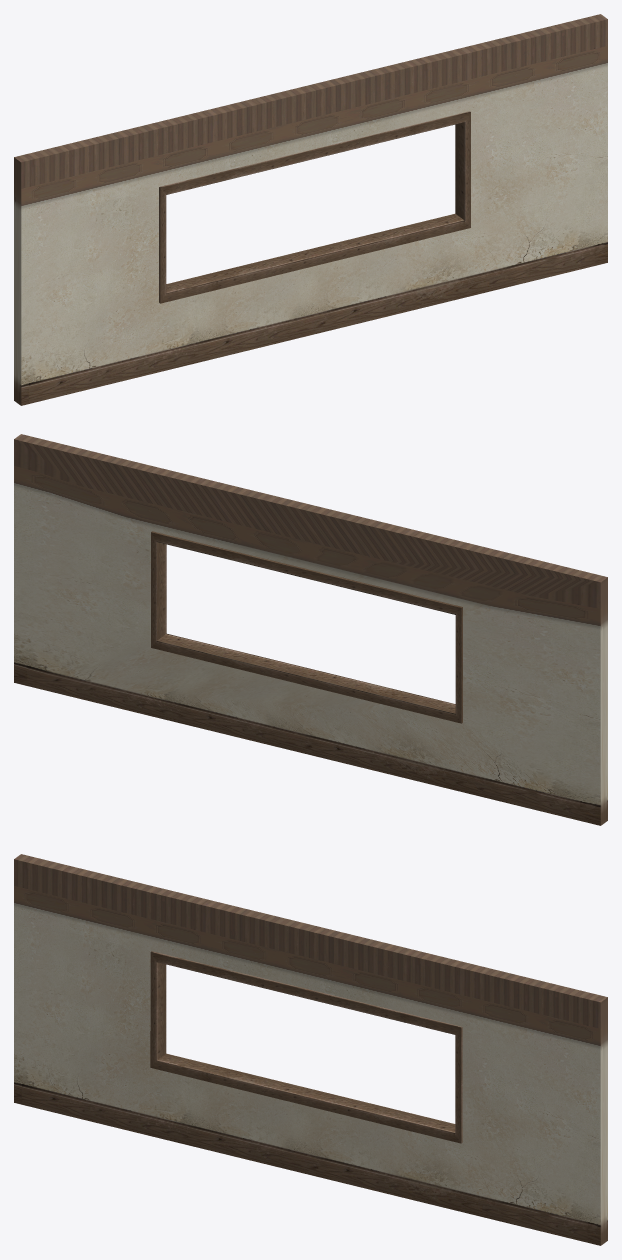
Rendered from erlou_wall.fbx.
3 views of the same model, one above another, from view 1: azimuth 30°, elevation 25°; view 2: azimuth 150°, elevation 25°; view 3: azimuth 330°, elevation 25° (orthographic).
Parts seen in each view (by area): view 1: Box001, Line001; view 2: Box001, Line001; view 3: Box001, Line001.
Boxes of the visible parts, box(x1,y1,x2,y2) form: Box001: box(14, 14, 607, 405); Line001: box(159, 111, 470, 303); Box001: box(14, 434, 607, 825); Line001: box(151, 531, 462, 723); Box001: box(14, 854, 607, 1245); Line001: box(150, 951, 462, 1143).
Bounding box in the file's own units: 6.53 × 2.59 × 0.19.
1 material, 1 textured.
